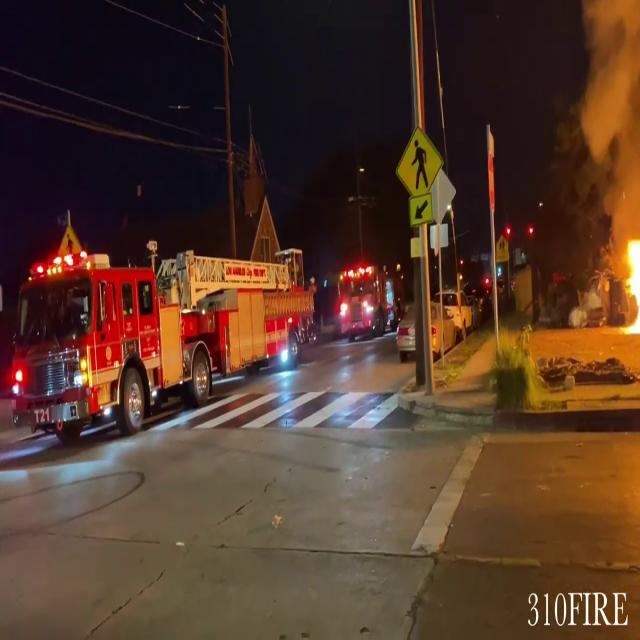Fire: (618, 230, 640, 335)
Smoke: (573, 0, 640, 228)
